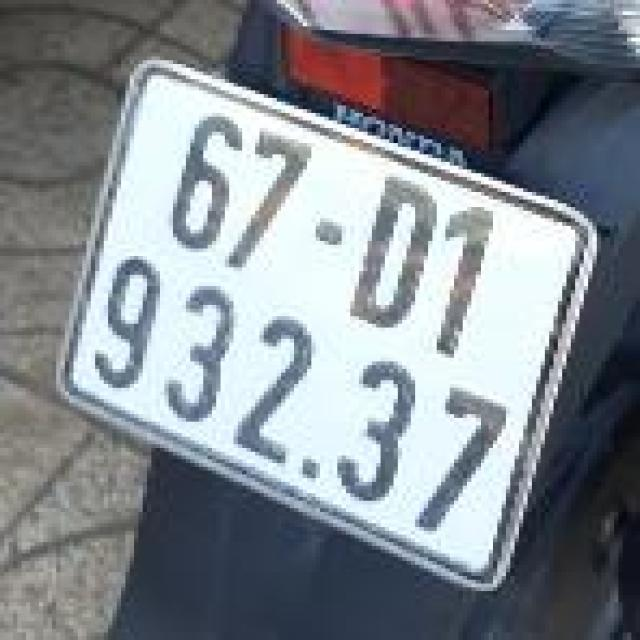2: (213, 301, 350, 479)
3: (322, 346, 451, 516), (145, 271, 264, 436)
6: (151, 100, 262, 269)
7: (387, 378, 536, 547), (410, 190, 527, 373), (215, 125, 326, 280)
9: (82, 239, 177, 403)
D: (336, 163, 457, 344)
